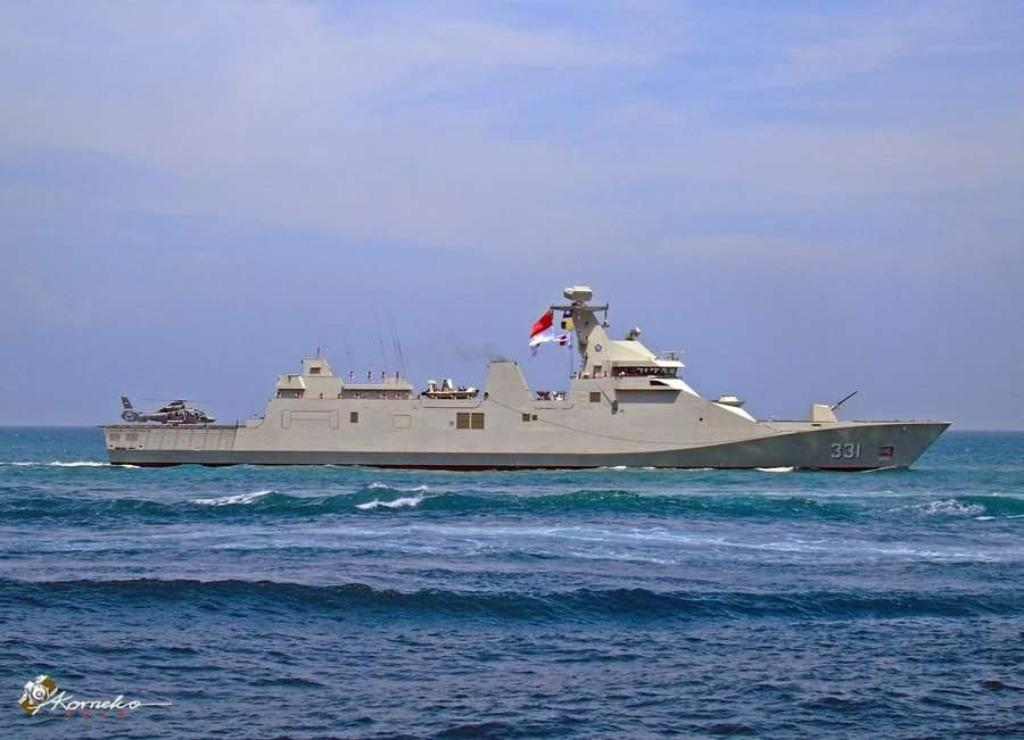Warship: (96, 281, 954, 473)
